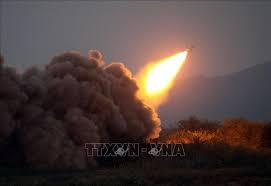ten_lua: (179, 41, 197, 57)
